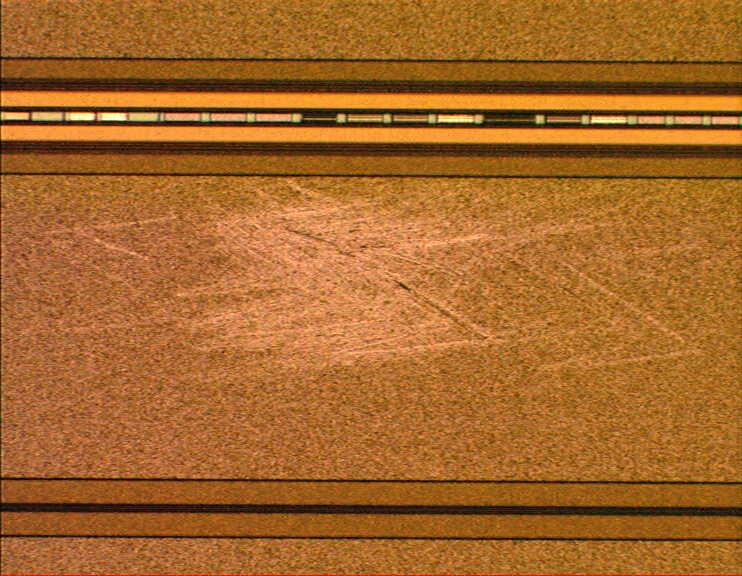SCRATCH: (38, 187, 713, 368)
